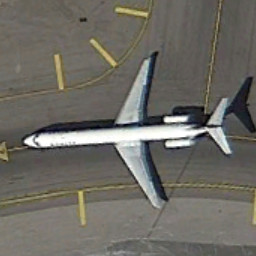Airplane: (17, 50, 241, 219)
